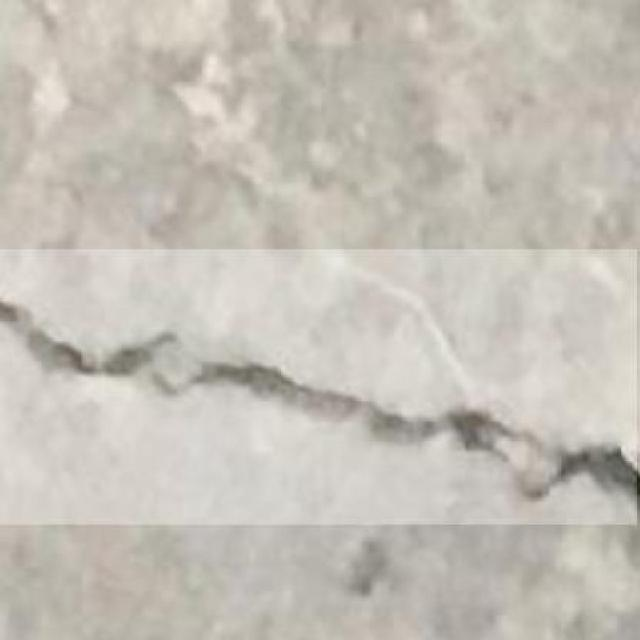SurfaceCrack: (0, 258, 630, 532)
